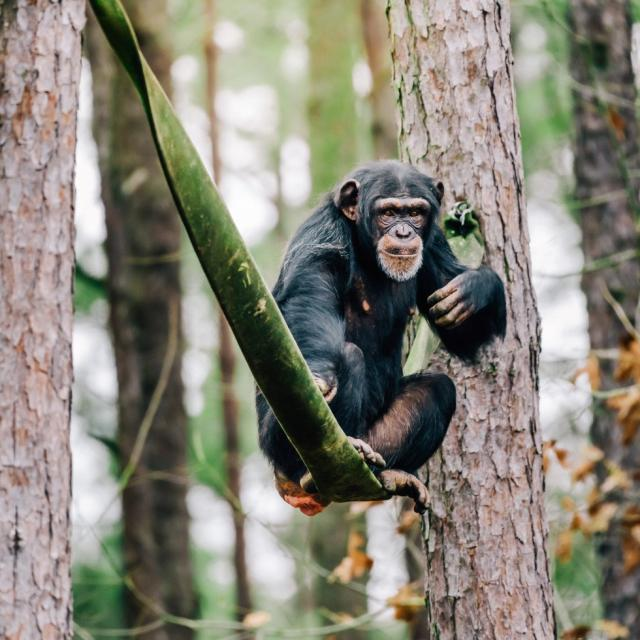chimpanzee: (272, 160, 506, 513), (255, 394, 330, 515)
